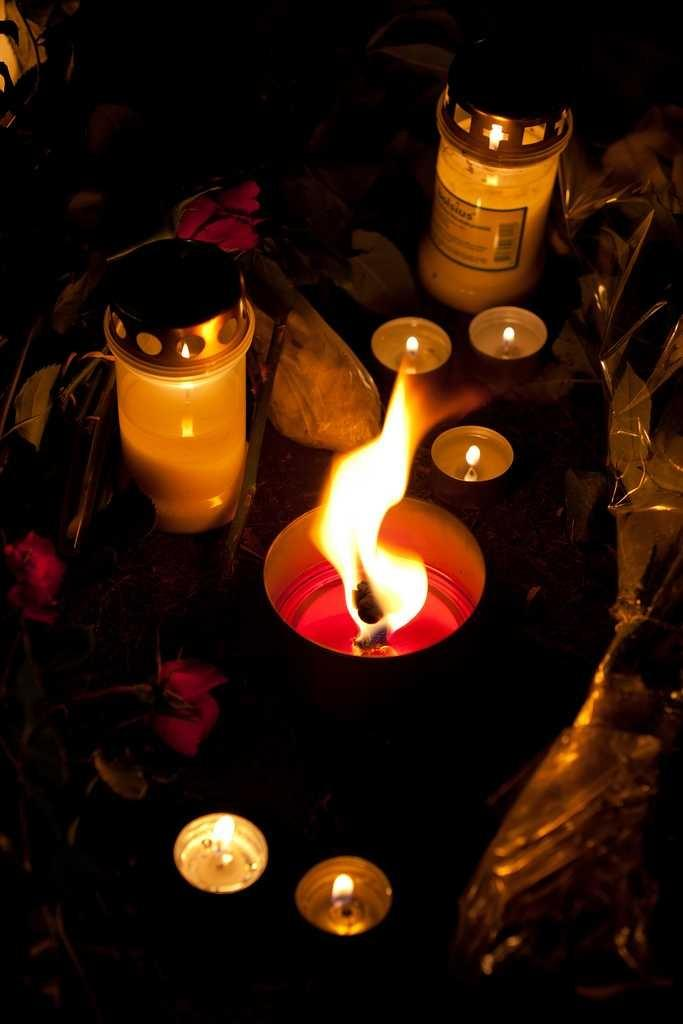fire: (330, 428, 418, 602)
